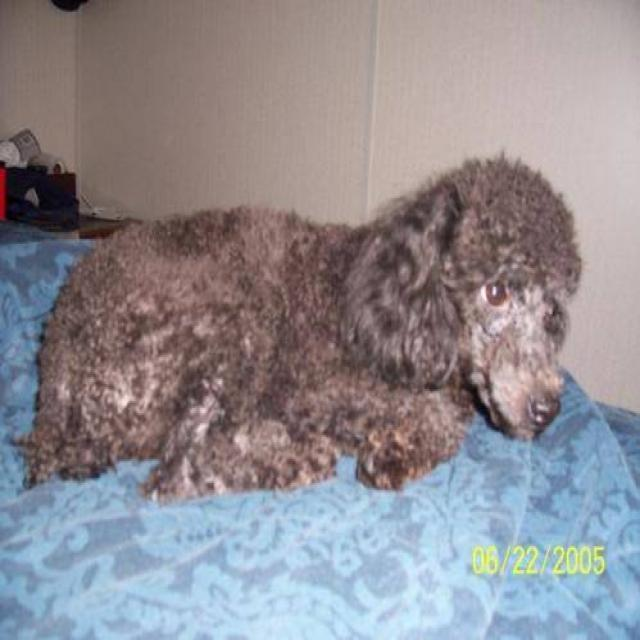dog: (9, 149, 584, 505)
